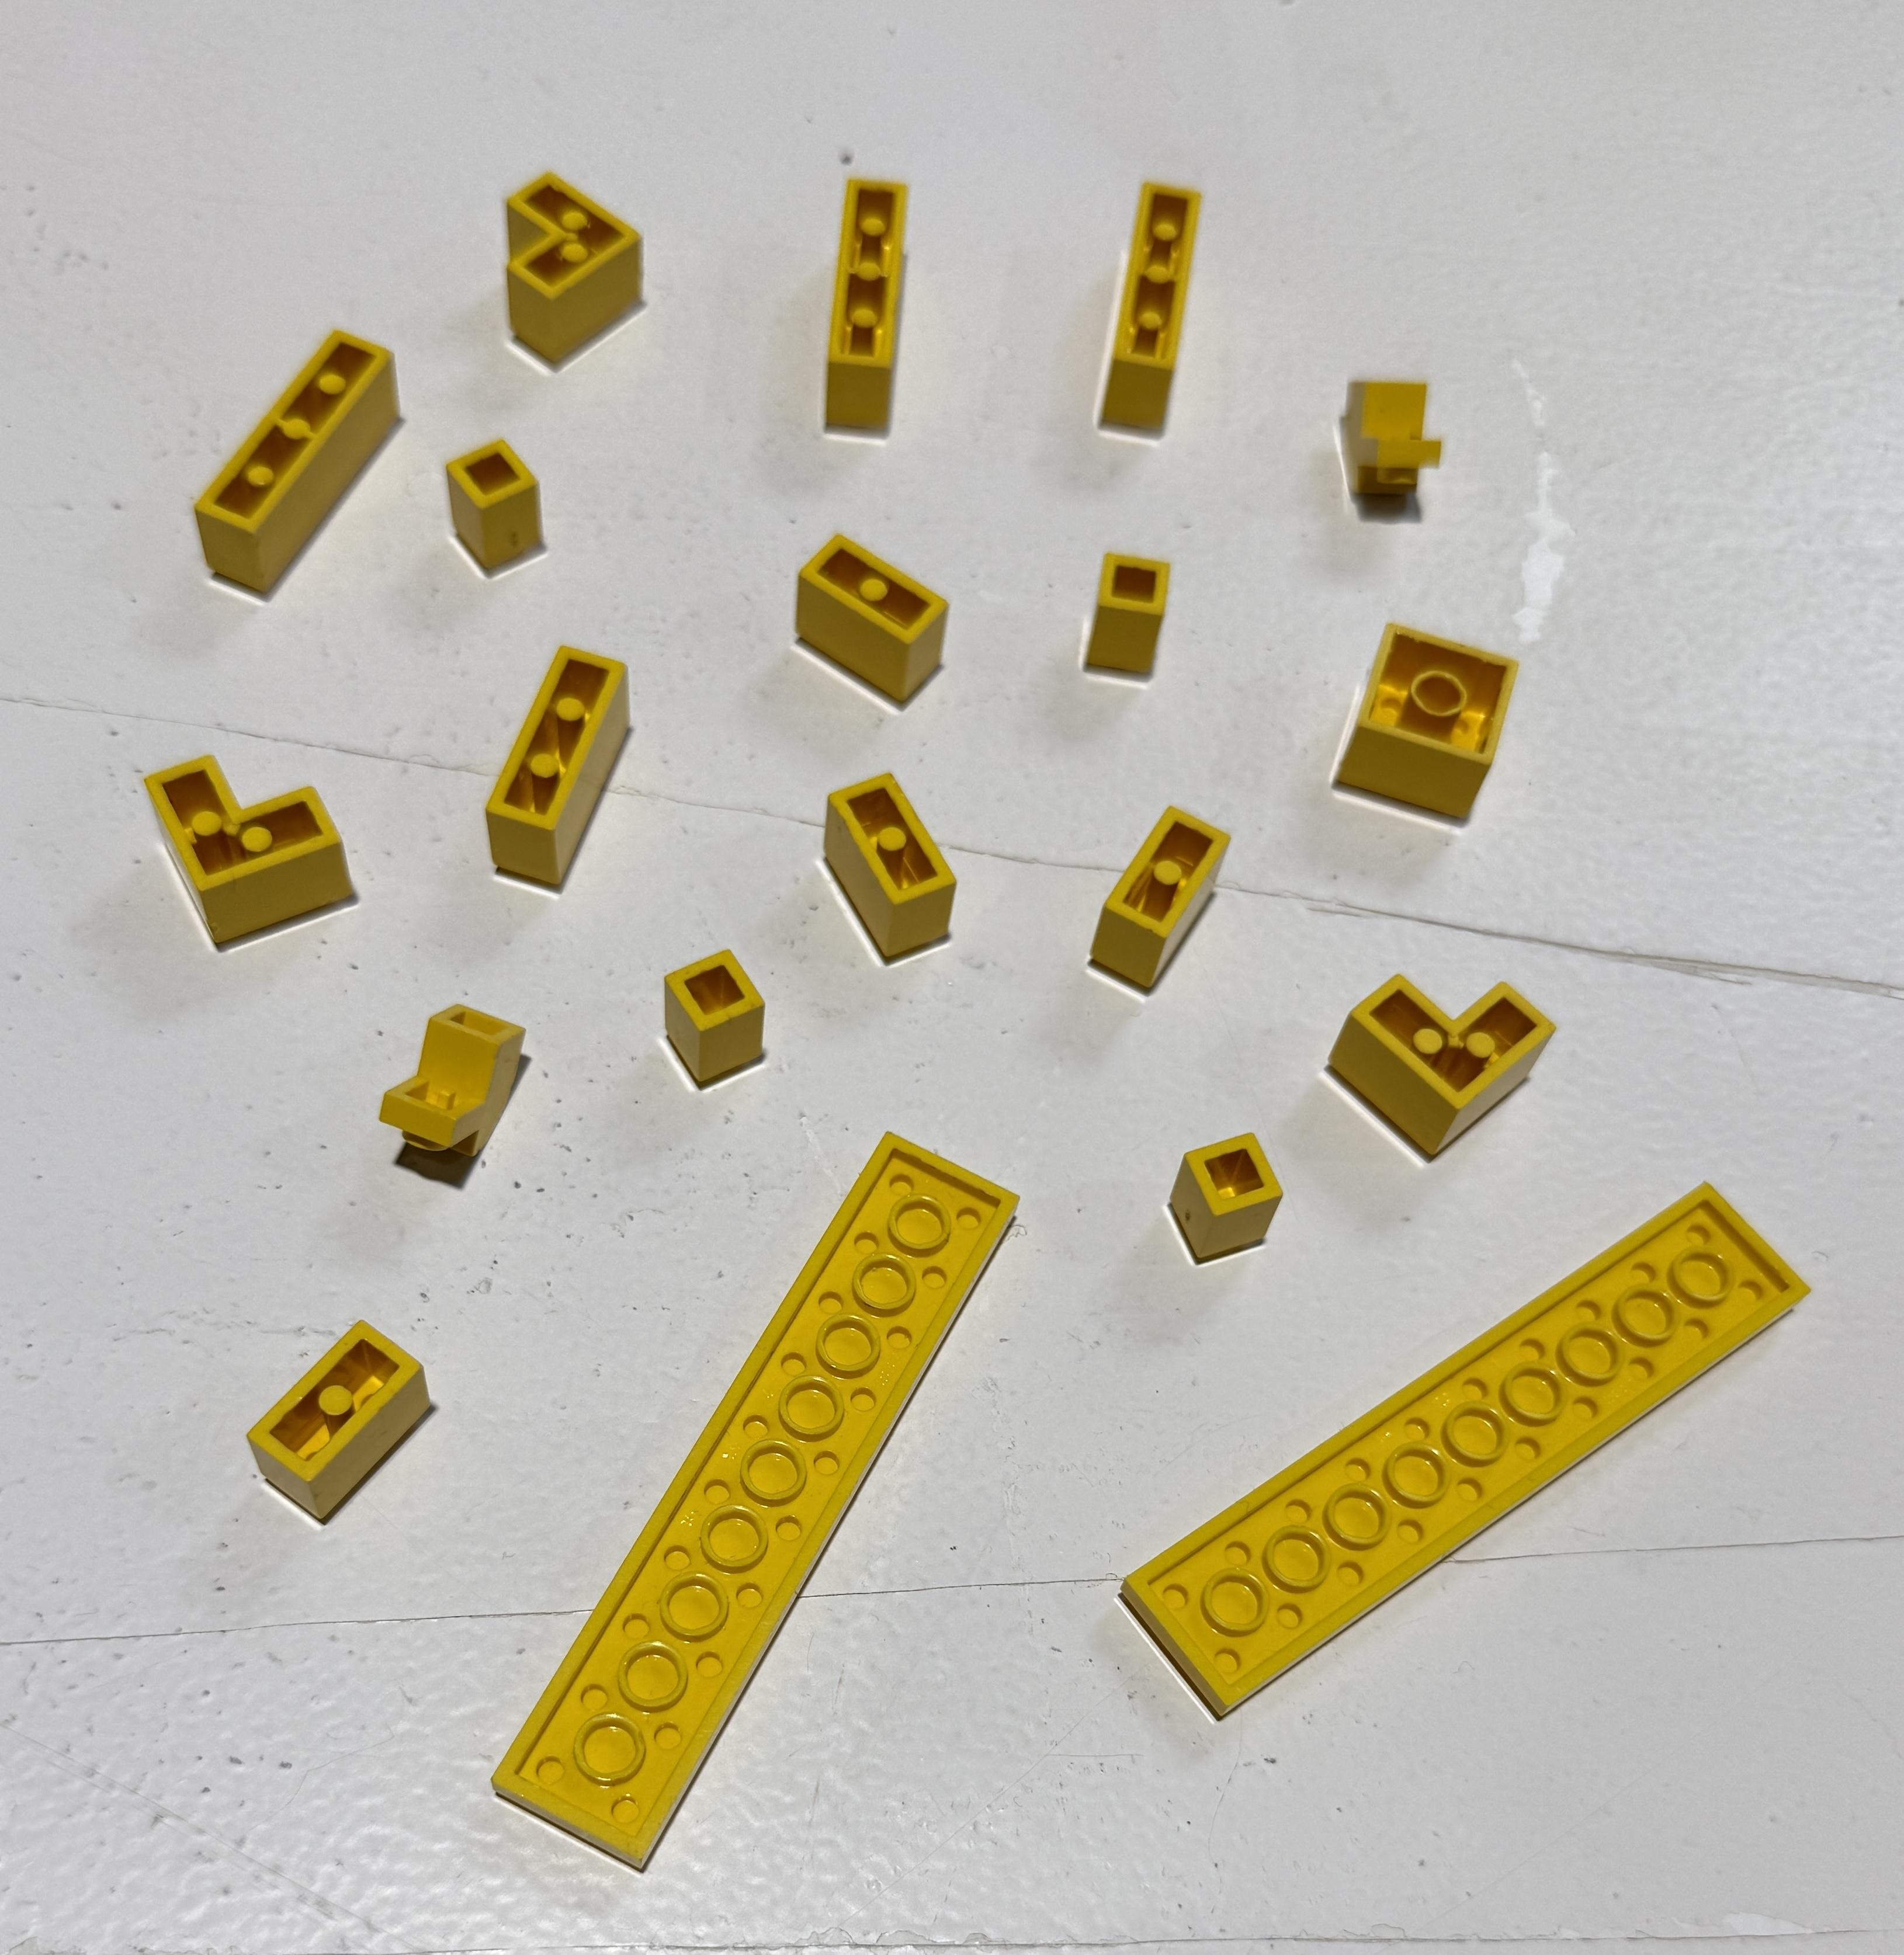brick_1x1: (646, 936, 801, 1114), (438, 421, 572, 586), (1058, 527, 1187, 696), (1154, 1114, 1291, 1271)
brick_1x2: (222, 1300, 469, 1541), (1056, 794, 1267, 1005), (777, 506, 965, 721), (785, 752, 963, 977)
brick_1x3: (452, 625, 663, 904)
brick_1x4: (166, 281, 428, 628), (1072, 154, 1270, 477), (784, 162, 949, 461)
brick_2x2: (1326, 593, 1543, 841)
